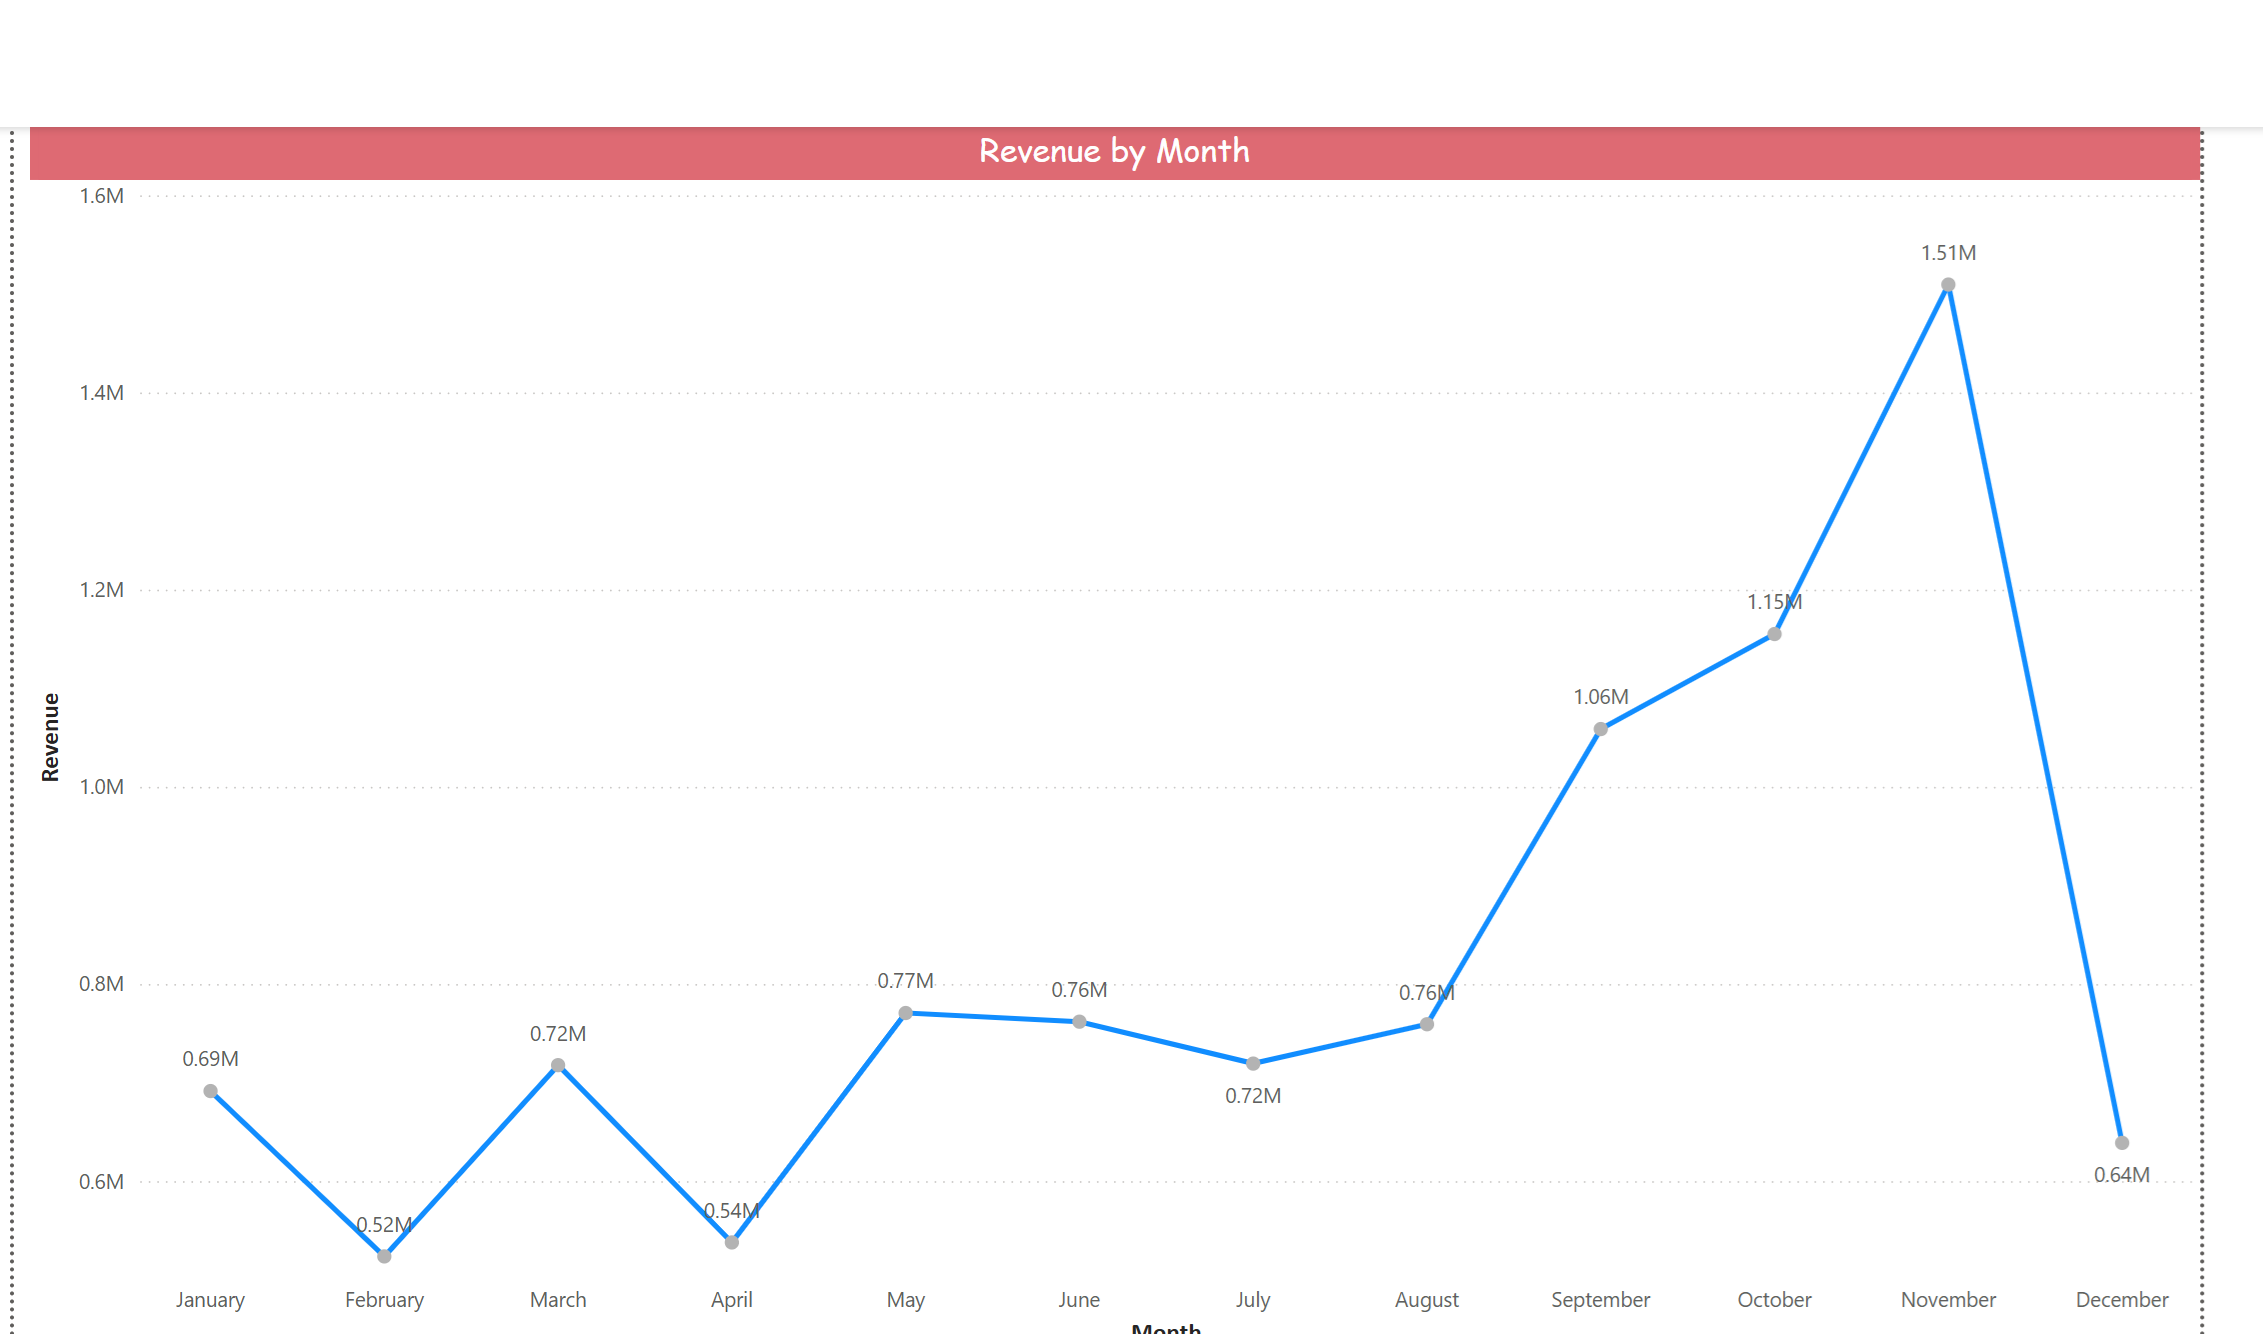

The dashboard page shown, as its layout file describes it:
{"tool":"powerbi","page":{"name":"Question 1","canvas":[1280,720],"ordinal":0},"visuals":[{"type":"lineChart","fields":{"Y":["Sum(Online Retail.Revenue)"],"Category":["Online Retail.InvoiceDate.Variation.Date Hierarchy.Month"]},"box":[9.7,0,1270.3,719.8],"z":0}]}

Visuals, with their boxes on the page's 1280x720 design canvas (x1, y1, x2, y2). These are canvas units, not pixel positions in the 2263x1334 screenshot, which may show the page scaled, cropped or inside an application window:
lineChart - Sum(Online Retail.Revenue) x Online Retail.InvoiceDate.Variation.Date Hierarchy.Month: <bbox>10, 0, 1280, 720</bbox>
